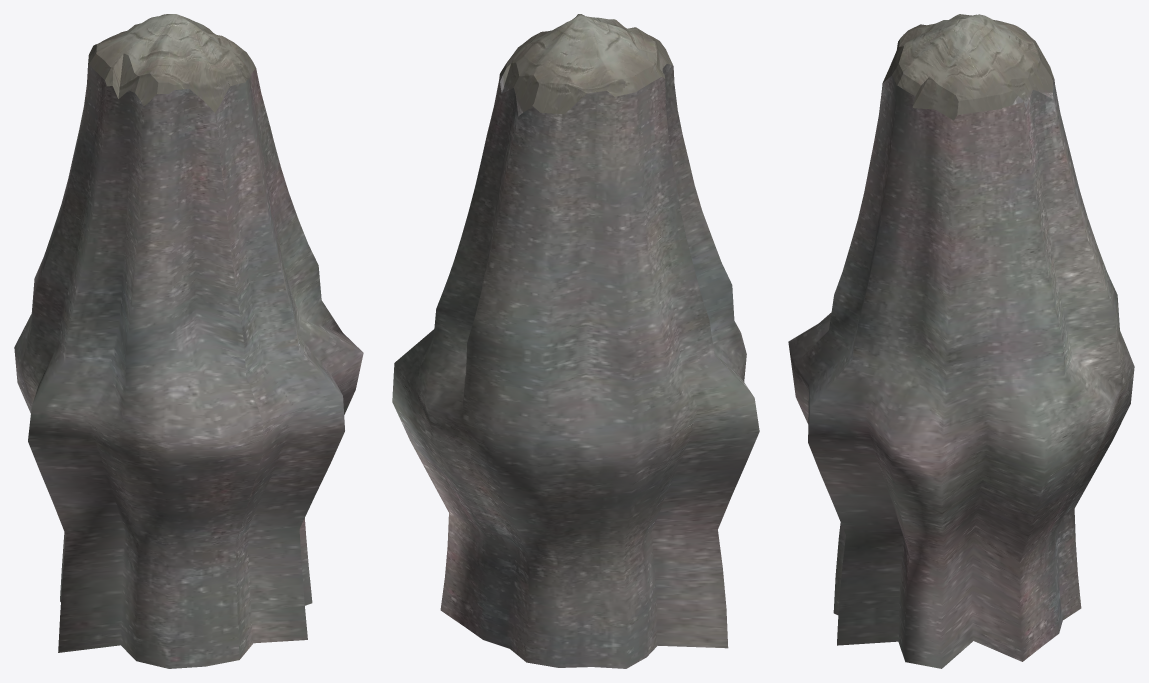
3 renders of one model, left to right at view 1: azimuth 30°, elevation 25°; view 2: azimuth 150°, elevation 25°; view 3: azimuth 270°, elevation 25°, orthographic. The views are drawn at different scales.
Parts seen in each view (by area): view 1: SM_GF_Ash_Tree_03_stump_LOD0; view 2: SM_GF_Ash_Tree_03_stump_LOD0; view 3: SM_GF_Ash_Tree_03_stump_LOD0.
Boxes of the visible parts, x1=… form: SM_GF_Ash_Tree_03_stump_LOD0: x1=14, y1=14, x2=363, y2=668; SM_GF_Ash_Tree_03_stump_LOD0: x1=392, y1=14, x2=759, y2=668; SM_GF_Ash_Tree_03_stump_LOD0: x1=788, y1=14, x2=1134, y2=668.
Bounding box in the file's own units: 1.29 × 2.29 × 1.2.
1 material, 1 textured.
